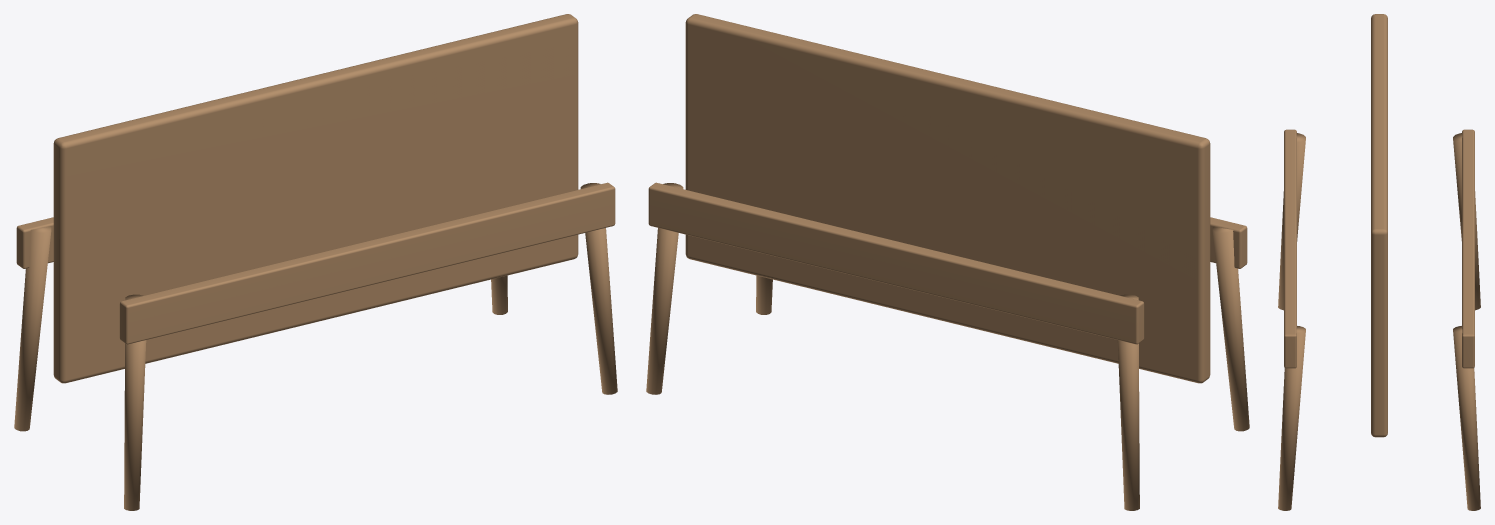
Rendered from atelier-dining-table.glb.
3 views of the same model, side by side, from view 1: azimuth 30°, elevation 25°; view 2: azimuth 150°, elevation 25°; view 3: azimuth 270°, elevation 25° (orthographic). The views are drawn at different scales.
Parts seen in each view (by area): view 1: legs.057; view 2: legs.057; view 3: legs.057.
Part boxes in pixels (x1,y1,x2,y2): legs.057: (14, 14, 617, 510); legs.057: (646, 14, 1249, 510); legs.057: (1278, 14, 1480, 510).
Bounding box in the file's own units: 1.8 × 1.1 × 0.7064.
